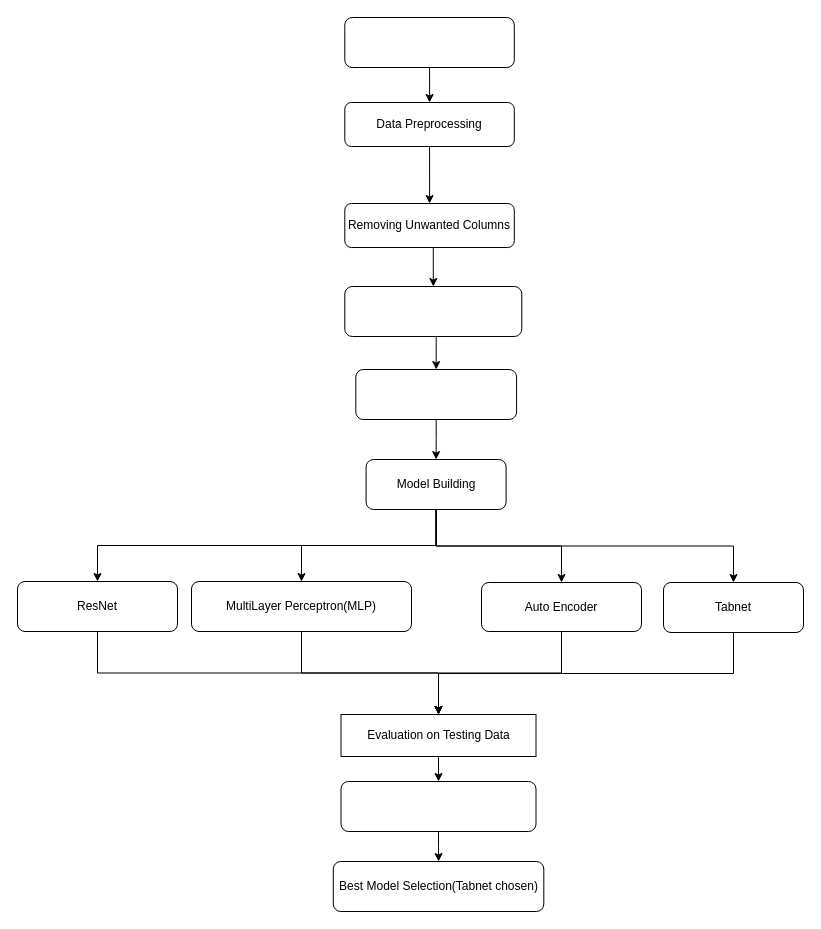
This 821x929 diagram has some shape labels left out. Here are the shapes that lost their labels. From the top down, the centre of each, then its label:
At (429,42): "Data Collection".
At (433,311): "Feature Selection and Target Identification".
At (436,394): "Dataset Splitting (Train and Test)".
At (438,806): "Visualization".
